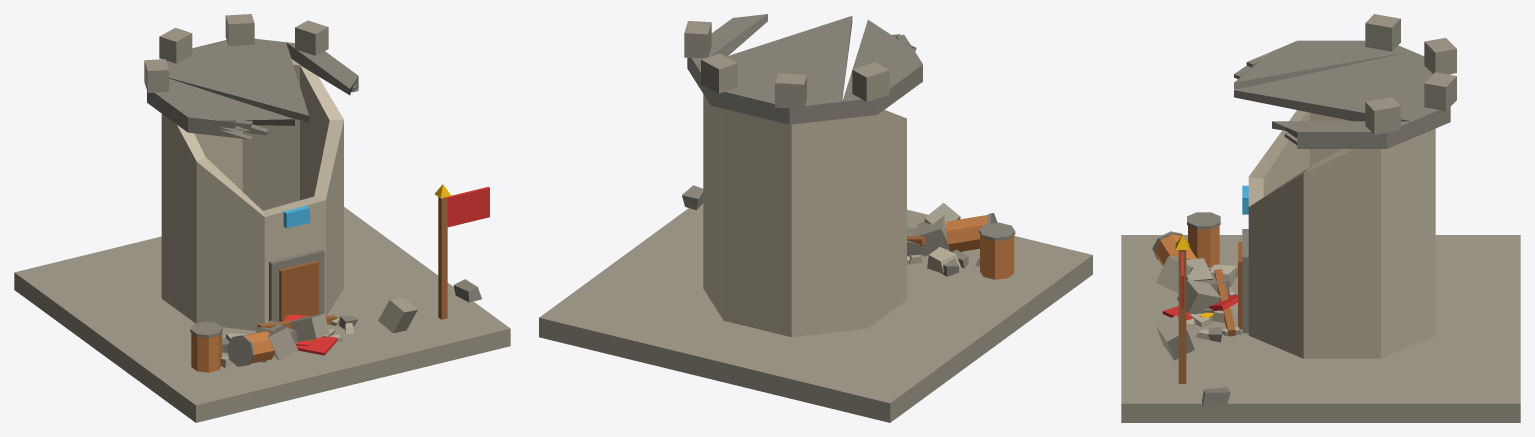
Rendered from defense_tower_t2_v1_dmg1.glb.
3 views of the same model, side by side, from view 1: azimuth 30°, elevation 25°; view 2: azimuth 150°, elevation 25°; view 3: azimuth 270°, elevation 25° (orthographic). The views are drawn at different scales.
Visible parts, largest first — view 1: defense_tower_t2_v1_dmg1; view 2: defense_tower_t2_v1_dmg1; view 3: defense_tower_t2_v1_dmg1.
Boxes of the visible parts, x1,y1,x2,y2 form: defense_tower_t2_v1_dmg1: (14, 14, 510, 422); defense_tower_t2_v1_dmg1: (539, 14, 1092, 422); defense_tower_t2_v1_dmg1: (1121, 14, 1520, 422).
Size of the model in its own units: 0.7704 by 0.572 by 0.75.
Materials: 1 (1 with a texture image).
